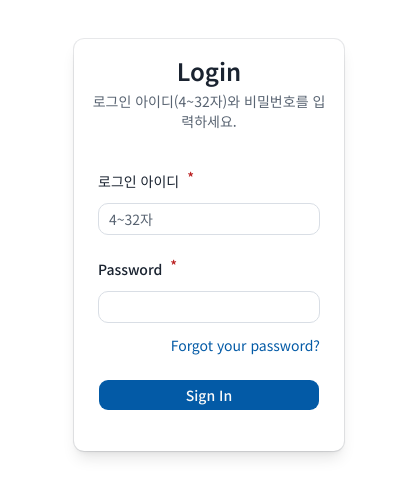
Test: Login Page › displays server error for unexpected errors
In the field labelled "로그인 아이디 *": (209, 219) [98,203,320,235], type "test@test.com"
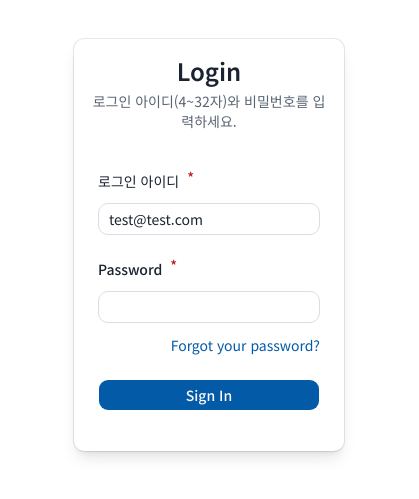
In the password field labelled "Password *": (209, 307) [98,291,320,323], type "password123"
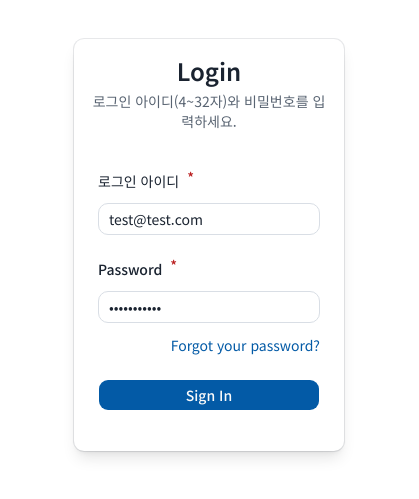
Click the button "Sign In": (209, 395) [98,379,320,411]
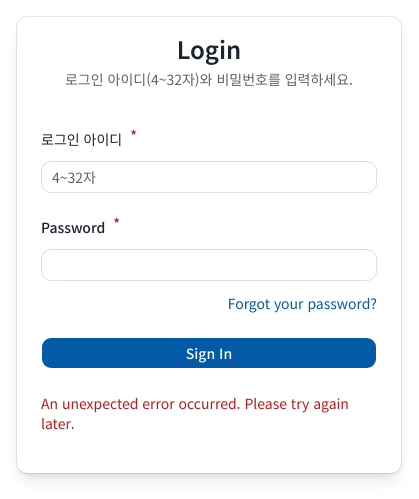
Expected: the text "An unexpected error occurred. Please try again later." is shown, [41,393,377,433]
